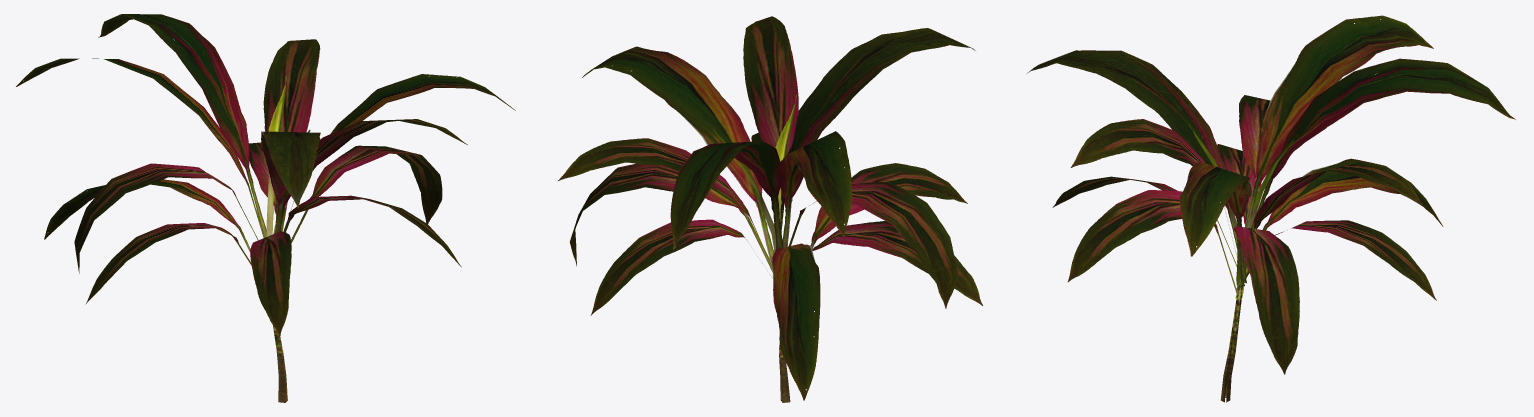
Rendered from Q_Plant_Cordyline_2.fbx.
3 renders of one model, left to right at view 1: azimuth 30°, elevation 25°; view 2: azimuth 150°, elevation 25°; view 3: azimuth 270°, elevation 25°, orthographic. The views are drawn at different scales.
Parts seen in each view (by area): view 1: _3349_Var2_LOD2; view 2: _3349_Var2_LOD2; view 3: _3349_Var2_LOD2.
Part boxes in pixels (<box>): _3349_Var2_LOD2: <box>16,14,515,402</box>; _3349_Var2_LOD2: <box>558,16,982,402</box>; _3349_Var2_LOD2: <box>1027,15,1515,402</box>.
Bounding box in the file's own units: 36.87 × 27.46 × 38.27.
Materials: 1 (1 with a texture image).
